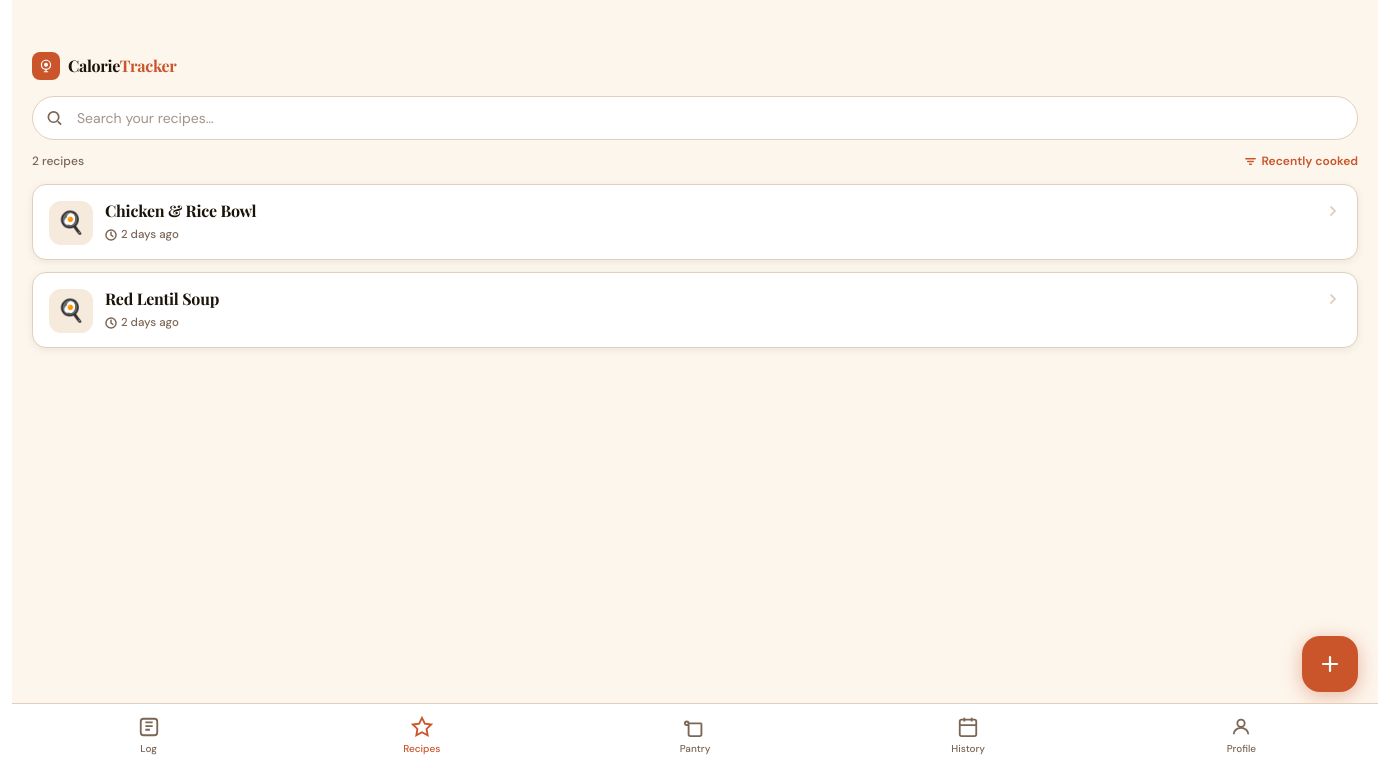
Test: RecipeListPage — search › filters recipes by name
The width and height of the screenshot is (1390, 768).
Check: the text "Chicken & Rice Bowl" is shown, box [105,200,256,221]
Type "lentil" into the field named "search recipes" at (695, 118), box [32,96,1358,140]
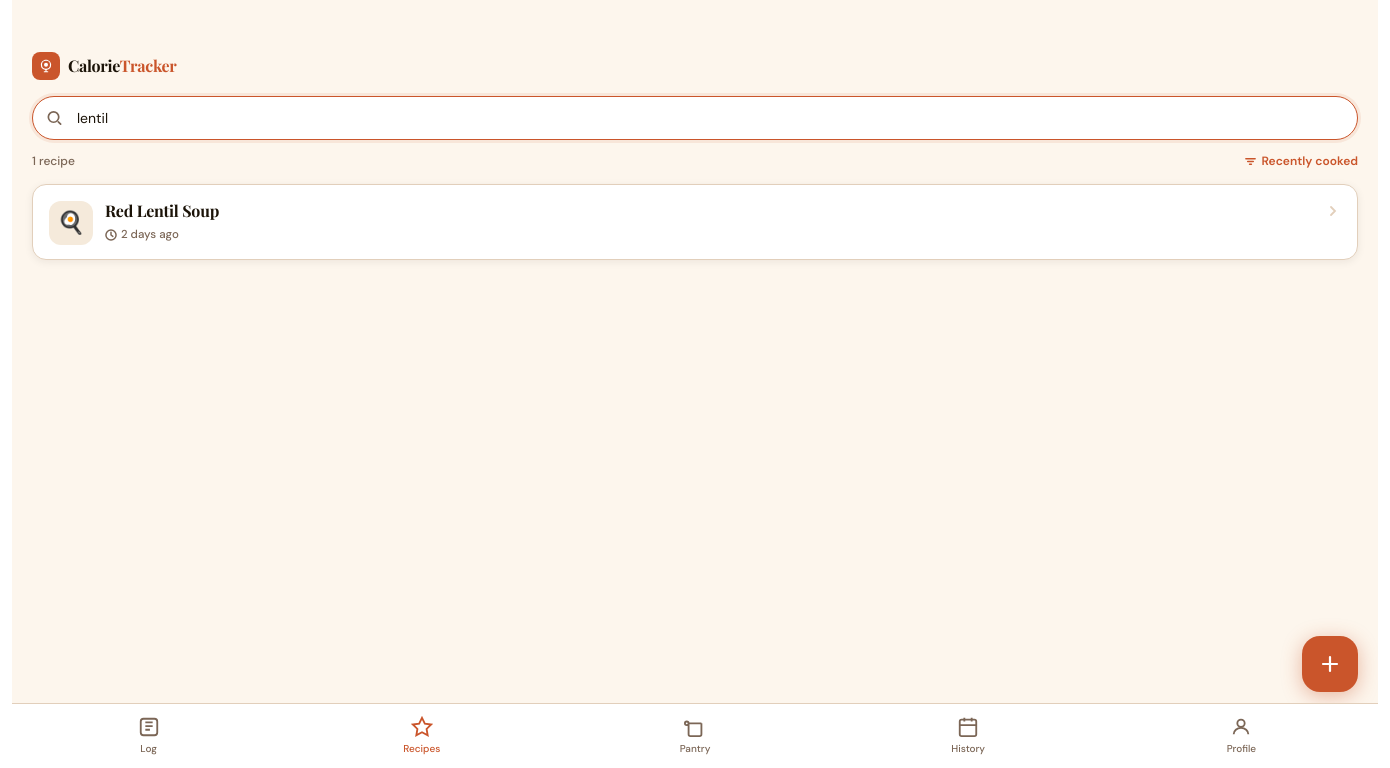
Check: the text "Red Lentil Soup" is shown, box [105,200,219,221]
Check: the button "Chicken & Rice Bowl" is gone
